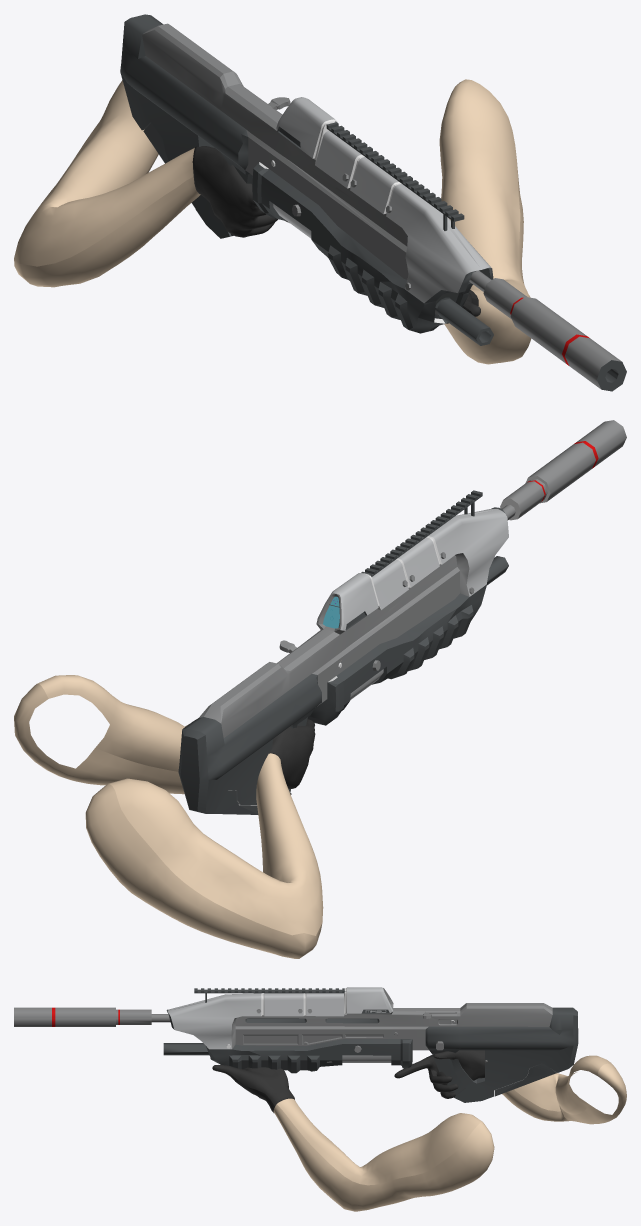
The picture shows the model from 3 angles, top to bottom: view 1: azimuth 30°, elevation 25°; view 2: azimuth 150°, elevation 25°; view 3: azimuth 270°, elevation 25°; orthographic projection. The views are drawn at different scales.
Parts seen in each view (by area): view 1: g_polySurface2_polySurface24.011_meshId4_name.011, SketchUp, SketchUp.031, SketchUp.005, SketchUp.012, g_polySurface2_polySurface24_meshId4_name, SketchUp.056, instance_2, SketchUp.011, SketchUp.016, SketchUp.015, SketchUp.054 (+3 smaller); view 2: g_polySurface2_polySurface24.011_meshId4_name.011, SketchUp, SketchUp.031, SketchUp.005, SketchUp.012, g_polySurface2_polySurface24_meshId4_name, SketchUp.056, SketchUp.011, instance_2, SketchUp.016, SketchUp.054, SketchUp.015 (+1 smaller); view 3: g_polySurface2_polySurface24.011_meshId4_name.011, SketchUp, SketchUp.031, SketchUp.005, g_polySurface2_polySurface24_meshId4_name, SketchUp.012, SketchUp.056, SketchUp.011, SketchUp.016, SketchUp.015, instance_2, SketchUp.054 (+4 smaller).
Part boxes in pixels (left/top/right/bottom): g_polySurface2_polySurface24.011_meshId4_name.011: left=14, top=79, right=531, bottom=364; SketchUp: left=142, top=23, right=408, bottom=280; SketchUp.031: left=120, top=14, right=252, bottom=238; SketchUp.005: left=252, top=162, right=493, bottom=333; SketchUp.012: left=386, top=184, right=491, bottom=302; g_polySurface2_polySurface24_meshId4_name: left=192, top=146, right=480, bottom=323; SketchUp.056: left=510, top=297, right=586, bottom=363; instance_2: left=326, top=121, right=464, bottom=230; SketchUp.011: left=276, top=97, right=334, bottom=158; SketchUp.016: left=350, top=157, right=398, bottom=214; SketchUp.015: left=315, top=130, right=361, bottom=188; SketchUp.054: left=565, top=336, right=621, bottom=389; g_polySurface2_polySurface24.011_meshId4_name.011: left=14, top=675, right=323, bottom=958; SketchUp: left=199, top=553, right=469, bottom=737; SketchUp.031: left=178, top=674, right=321, bottom=813; SketchUp.005: left=307, top=507, right=504, bottom=725; SketchUp.012: left=428, top=509, right=508, bottom=596; g_polySurface2_polySurface24_meshId4_name: left=269, top=719, right=315, bottom=788; SketchUp.056: left=528, top=442, right=595, bottom=501; SketchUp.011: left=316, top=573, right=378, bottom=630; instance_2: left=361, top=490, right=482, bottom=576; SketchUp.016: left=398, top=537, right=439, bottom=587; SketchUp.054: left=576, top=420, right=626, bottom=466; SketchUp.015: left=372, top=559, right=408, bottom=609; g_polySurface2_polySurface24.011_meshId4_name.011: left=273, top=1055, right=626, bottom=1211; SketchUp: left=231, top=988, right=552, bottom=1050; SketchUp.031: left=425, top=1007, right=578, bottom=1102; SketchUp.005: left=166, top=1009, right=412, bottom=1073; g_polySurface2_polySurface24_meshId4_name: left=212, top=1050, right=484, bottom=1112; SketchUp.012: left=167, top=993, right=261, bottom=1049; SketchUp.056: left=55, top=1007, right=115, bottom=1026; SketchUp.011: left=347, top=987, right=393, bottom=1013; SketchUp.016: left=264, top=993, right=303, bottom=1016; SketchUp.015: left=306, top=993, right=343, bottom=1016; instance_2: left=194, top=988, right=345, bottom=1002; SketchUp.054: left=14, top=1007, right=51, bottom=1026.
Bounding box in the file's own units: 0.1045 × 0.07 × 0.23.
